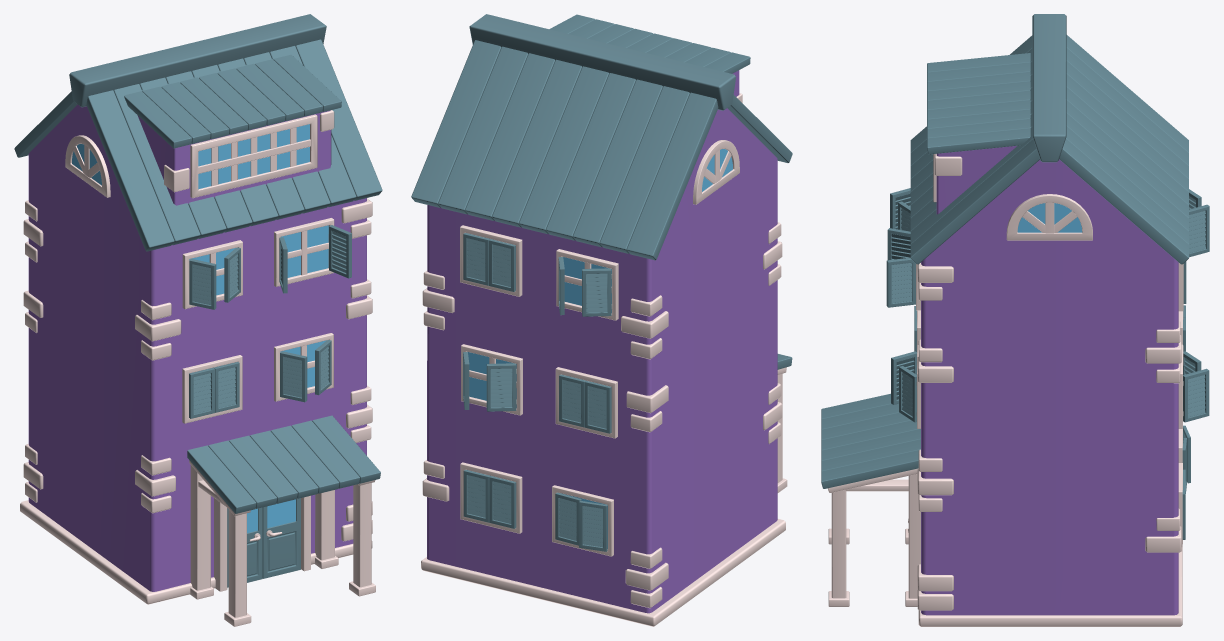
File: City_19_House_1.glb
3 views of the same model, side by side, from view 1: azimuth 30°, elevation 25°; view 2: azimuth 150°, elevation 25°; view 3: azimuth 270°, elevation 25° (orthographic). The views are drawn at different scales.
Parts seen in each view (by area): view 1: City_19_House_1; view 2: City_19_House_1; view 3: City_19_House_1.
Boxes of the visible parts, x1=… form: City_19_House_1: x1=14, y1=14, x2=382, y2=626; City_19_House_1: x1=411, y1=14, x2=792, y2=626; City_19_House_1: x1=821, y1=14, x2=1209, y2=626.
Bounding box in the file's own units: 6.22 × 11.82 × 8.37.
Materials: 1 (1 with a texture image).
